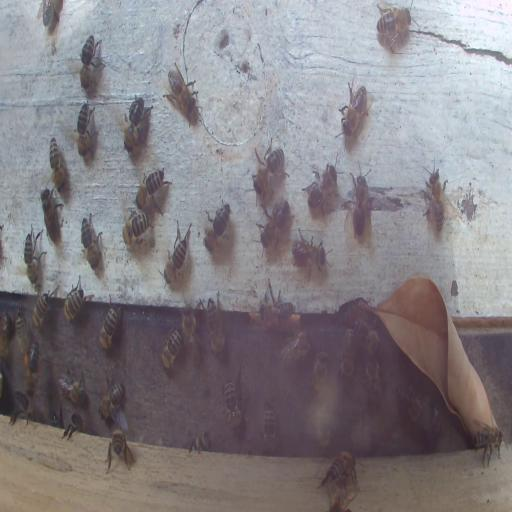nonpollenbee: (336, 77, 372, 144), (250, 142, 285, 206), (164, 60, 199, 124), (375, 4, 415, 50), (165, 218, 193, 282), (422, 160, 446, 234), (136, 166, 171, 215), (203, 201, 232, 260), (78, 33, 106, 93), (257, 202, 290, 252), (74, 99, 99, 165), (320, 452, 362, 490), (473, 421, 506, 469), (278, 321, 311, 369), (23, 222, 46, 289), (122, 93, 147, 154), (292, 230, 327, 273), (302, 164, 332, 214), (40, 186, 64, 246), (348, 172, 370, 237), (80, 213, 103, 273), (260, 294, 292, 337), (98, 373, 126, 422), (62, 276, 90, 324), (98, 295, 122, 351), (362, 355, 385, 412), (121, 210, 153, 248), (354, 316, 382, 359), (106, 428, 133, 472), (58, 366, 86, 407), (396, 380, 423, 421), (207, 295, 225, 356), (311, 350, 329, 409), (338, 326, 357, 380), (222, 379, 242, 430), (161, 326, 182, 372), (49, 136, 65, 192), (32, 291, 53, 331), (11, 390, 32, 426), (262, 400, 276, 448), (0, 309, 12, 364), (182, 304, 197, 346), (63, 412, 86, 438), (16, 308, 28, 351), (187, 431, 210, 453), (38, 1, 54, 30)
pollenbee: (23, 338, 44, 398)
